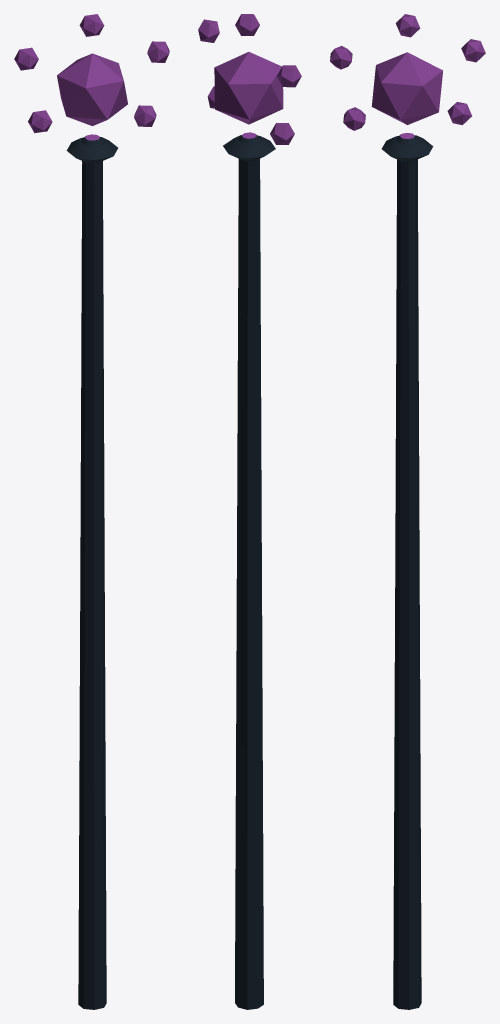
The model's file is Staff5.fbx.
The picture shows the model from 3 angles, left to right: view 1: azimuth 90°, elevation 25°; view 2: azimuth 210°, elevation 25°; view 3: azimuth 270°, elevation 25°; orthographic projection.
Parts seen in each view (by area): view 1: Cube.020; view 2: Cube.020; view 3: Cube.020.
Boxes of the visible parts, x1=… form: Cube.020: x1=14, y1=14, x2=169, y2=1009; Cube.020: x1=198, y1=14, x2=301, y2=1009; Cube.020: x1=330, y1=14, x2=485, y2=1009.
Bounding box in the file's own units: 0.1273 × 0.2809 × 1.96.
